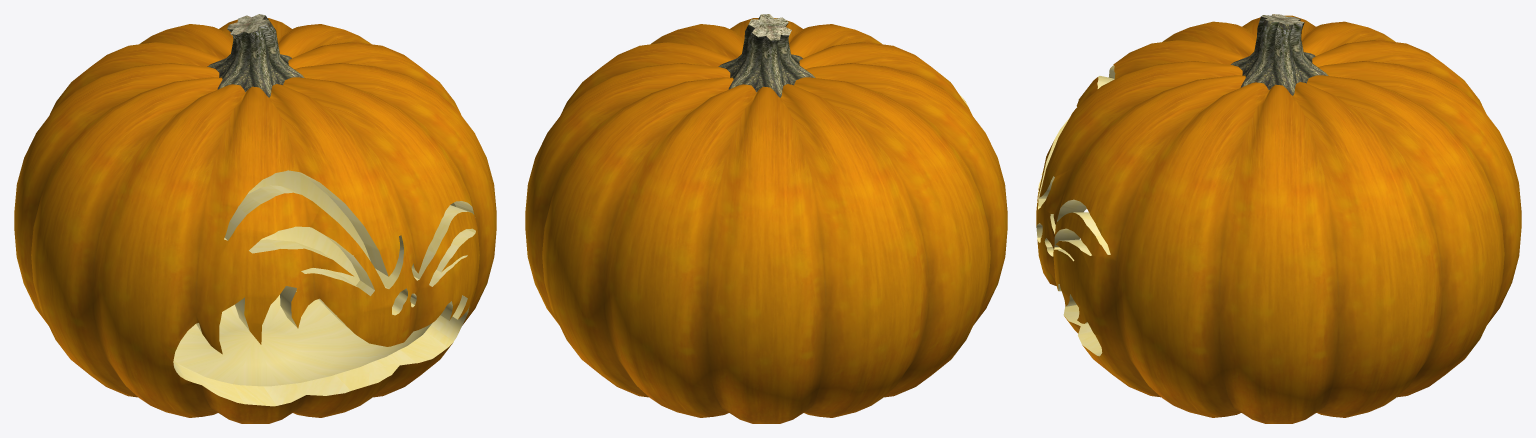
The model's file is 南瓜灯_04.obj.
3 views of the same model, side by side, from view 1: azimuth 30°, elevation 25°; view 2: azimuth 150°, elevation 25°; view 3: azimuth 270°, elevation 25° (orthographic).
Parts seen in each view (by area): view 1: PumpkinD_001, Stalk01_002; view 2: PumpkinD_001, Stalk01_002; view 3: PumpkinD_001, Stalk01_002.
Part boxes in pixels (x1,y1,x2,y2): PumpkinD_001: (14, 18, 496, 423); Stalk01_002: (207, 14, 304, 97); PumpkinD_001: (525, 18, 1007, 423); Stalk01_002: (718, 14, 815, 97); PumpkinD_001: (1036, 15, 1521, 423); Stalk01_002: (1231, 14, 1328, 95).
Size of the model in its own units: 105 by 84.99 by 105.
